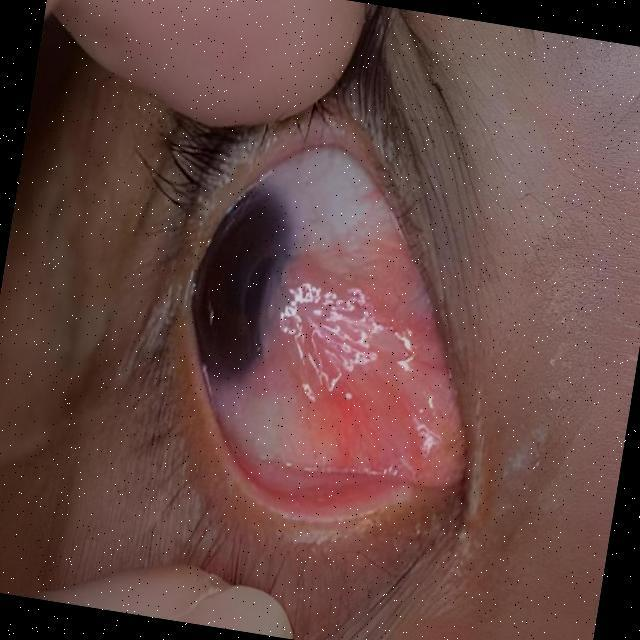Pterygium: (236, 203, 478, 478)
